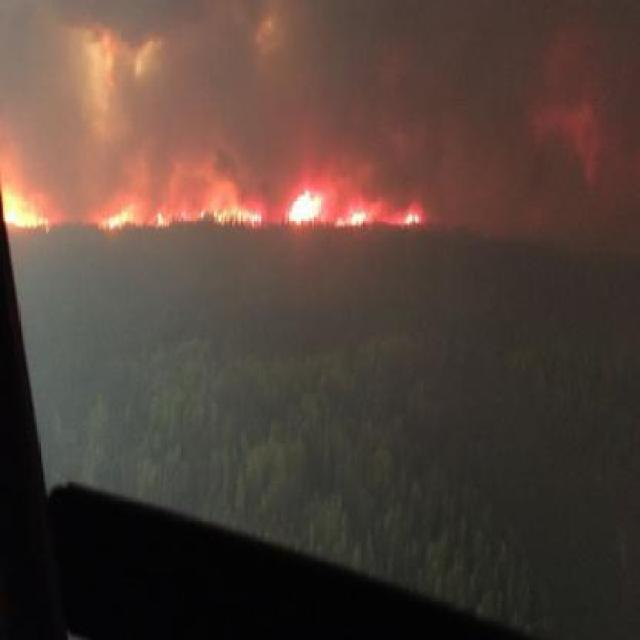Fire: (154, 197, 264, 228), (315, 162, 380, 198), (3, 198, 45, 231), (286, 190, 322, 223), (370, 200, 402, 226), (104, 204, 128, 230), (340, 206, 368, 227), (404, 210, 421, 226)
